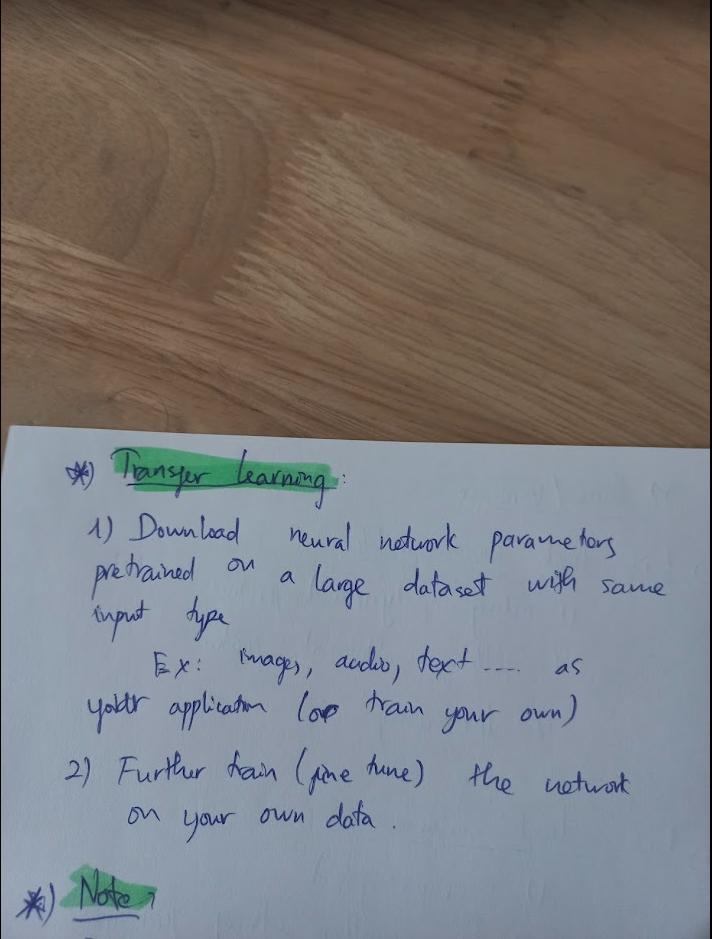text: (89, 549, 673, 614), (61, 740, 633, 803), (83, 509, 620, 569), (84, 687, 579, 741), (149, 641, 586, 690), (106, 443, 330, 513), (124, 799, 380, 850), (90, 594, 231, 650), (70, 863, 160, 916)
